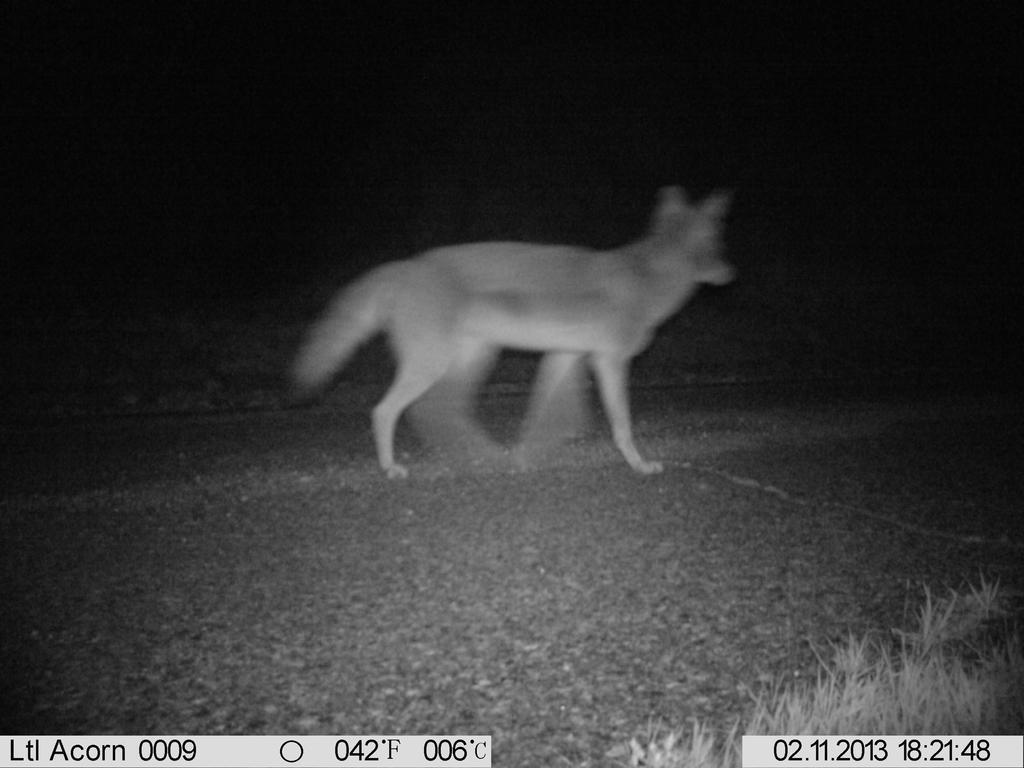coyote: (279, 169, 747, 489)
